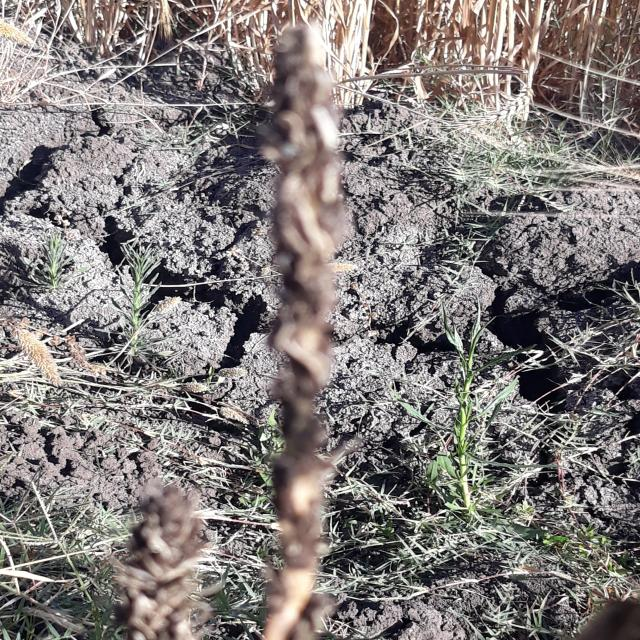loose_charred: (214, 15, 411, 640), (108, 443, 252, 640)
